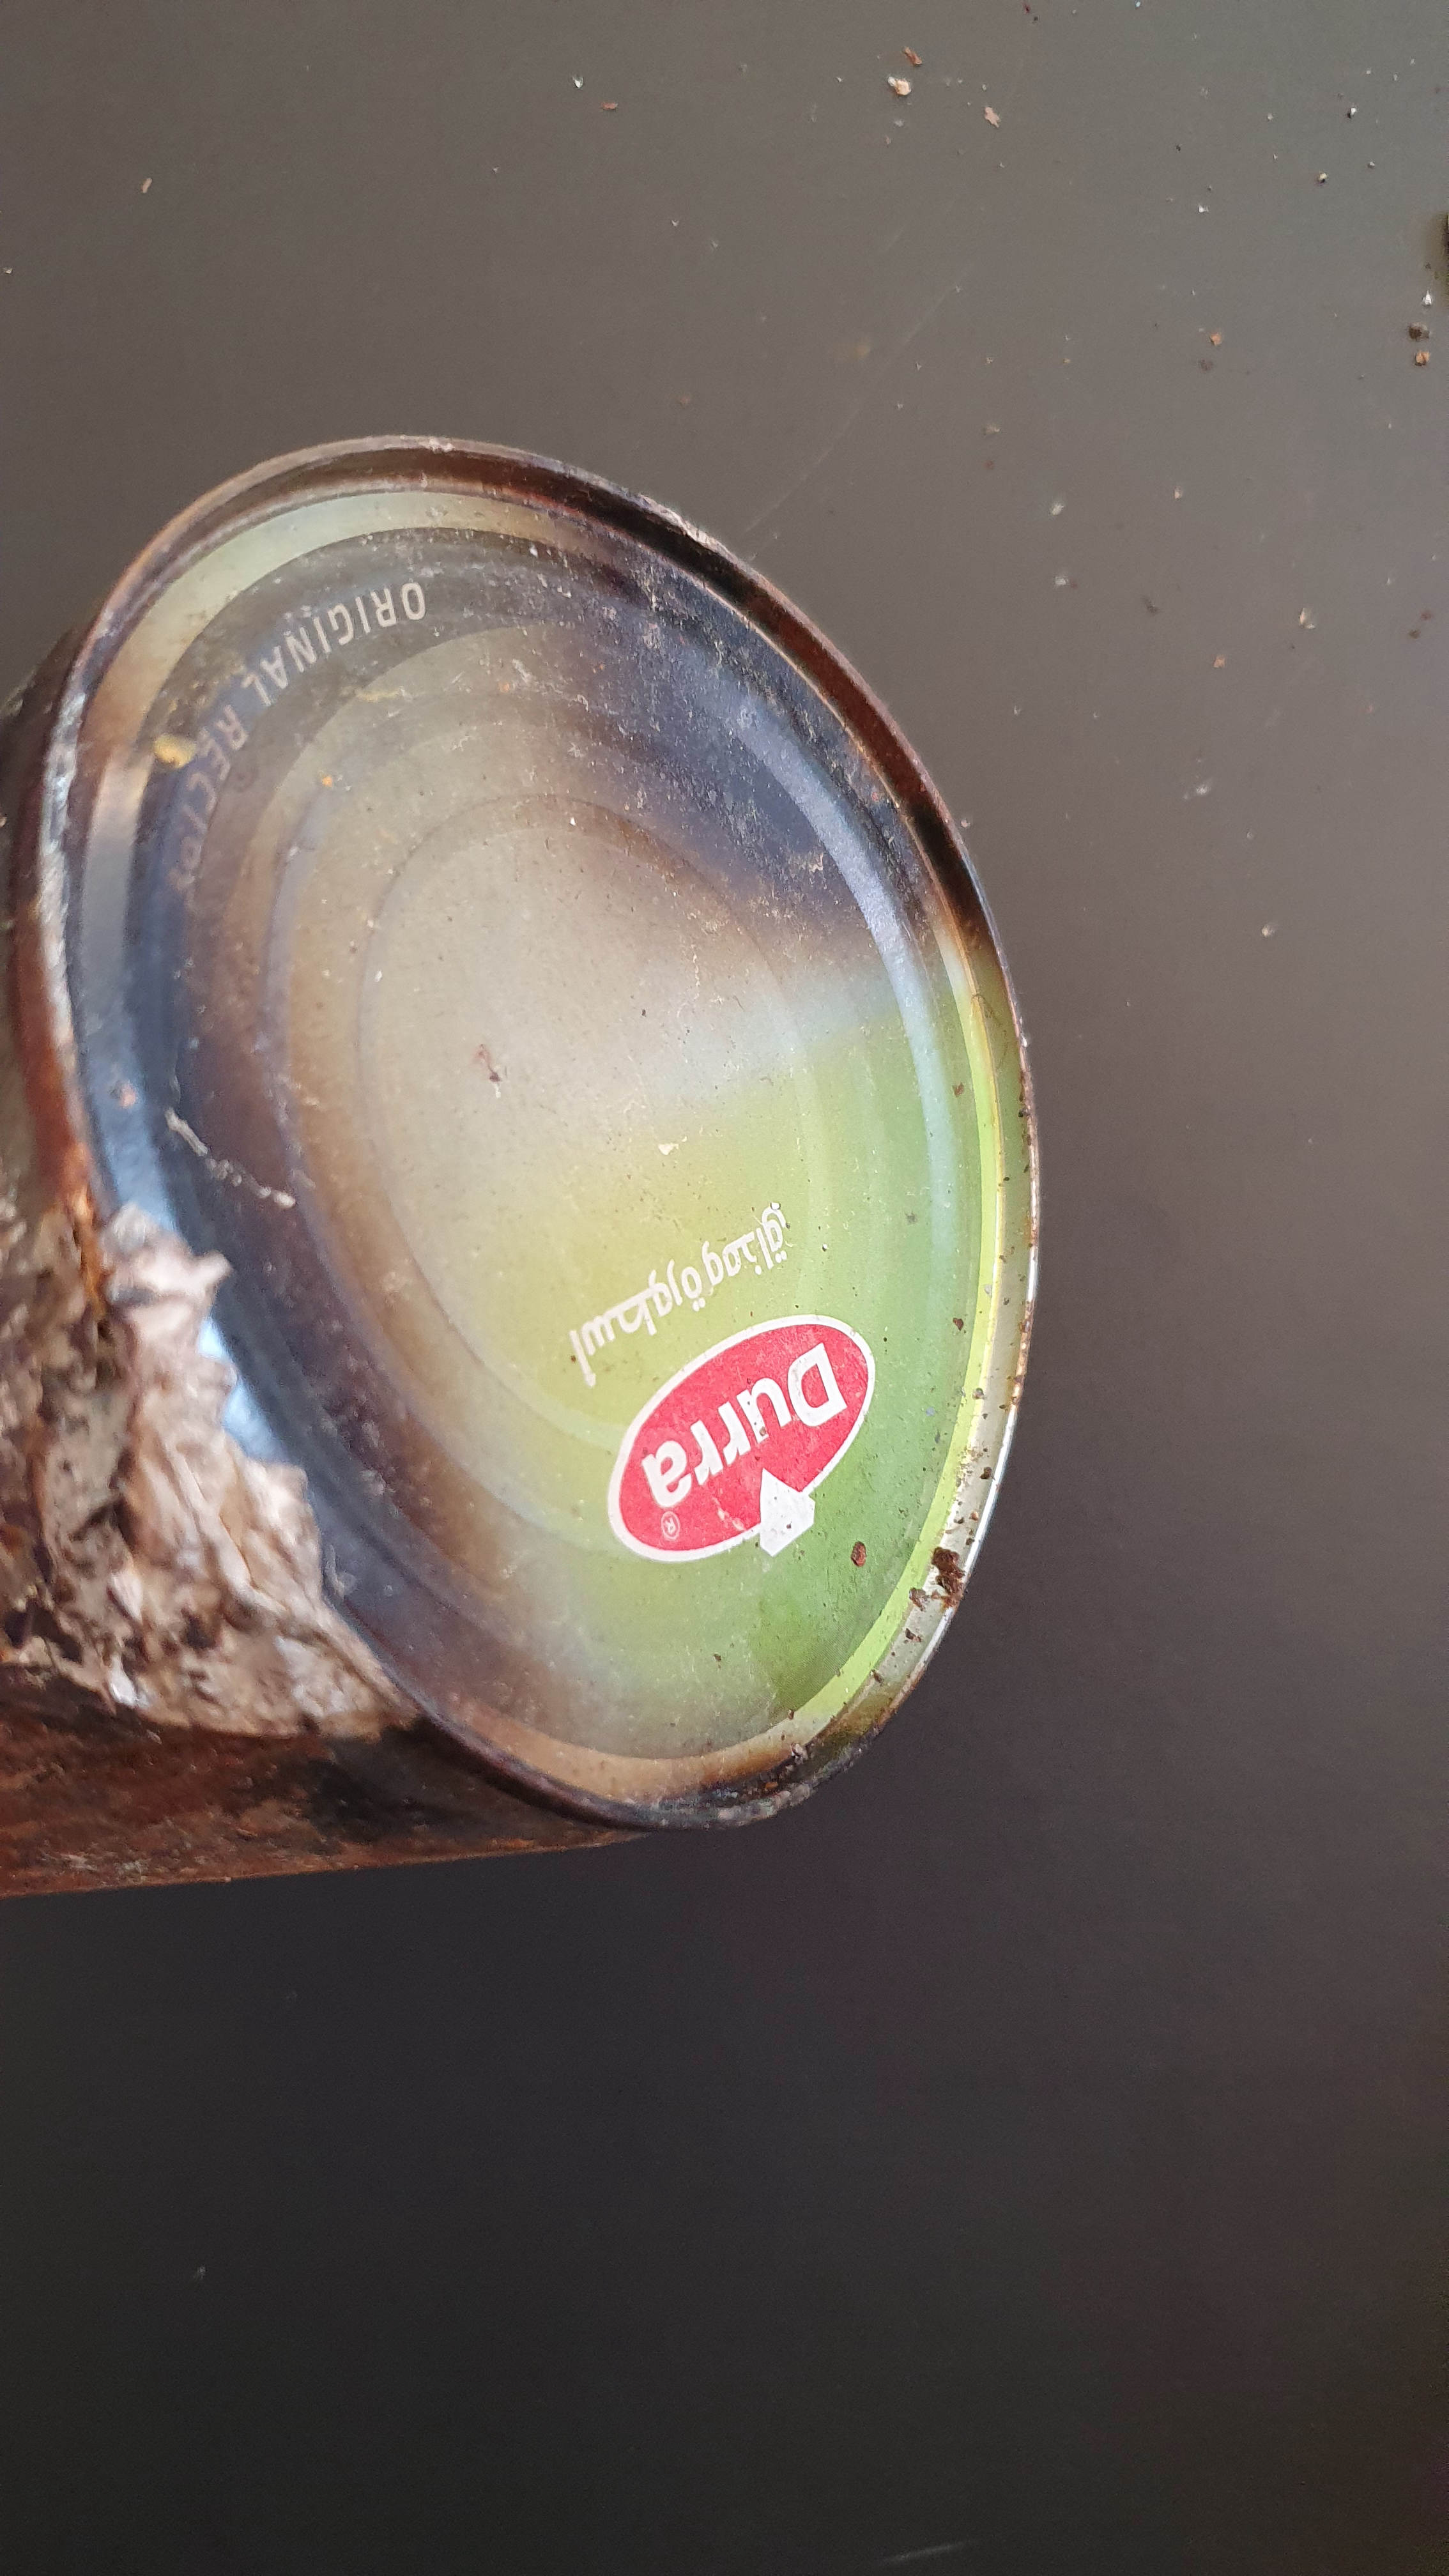metal: (0, 402, 1079, 2040)
